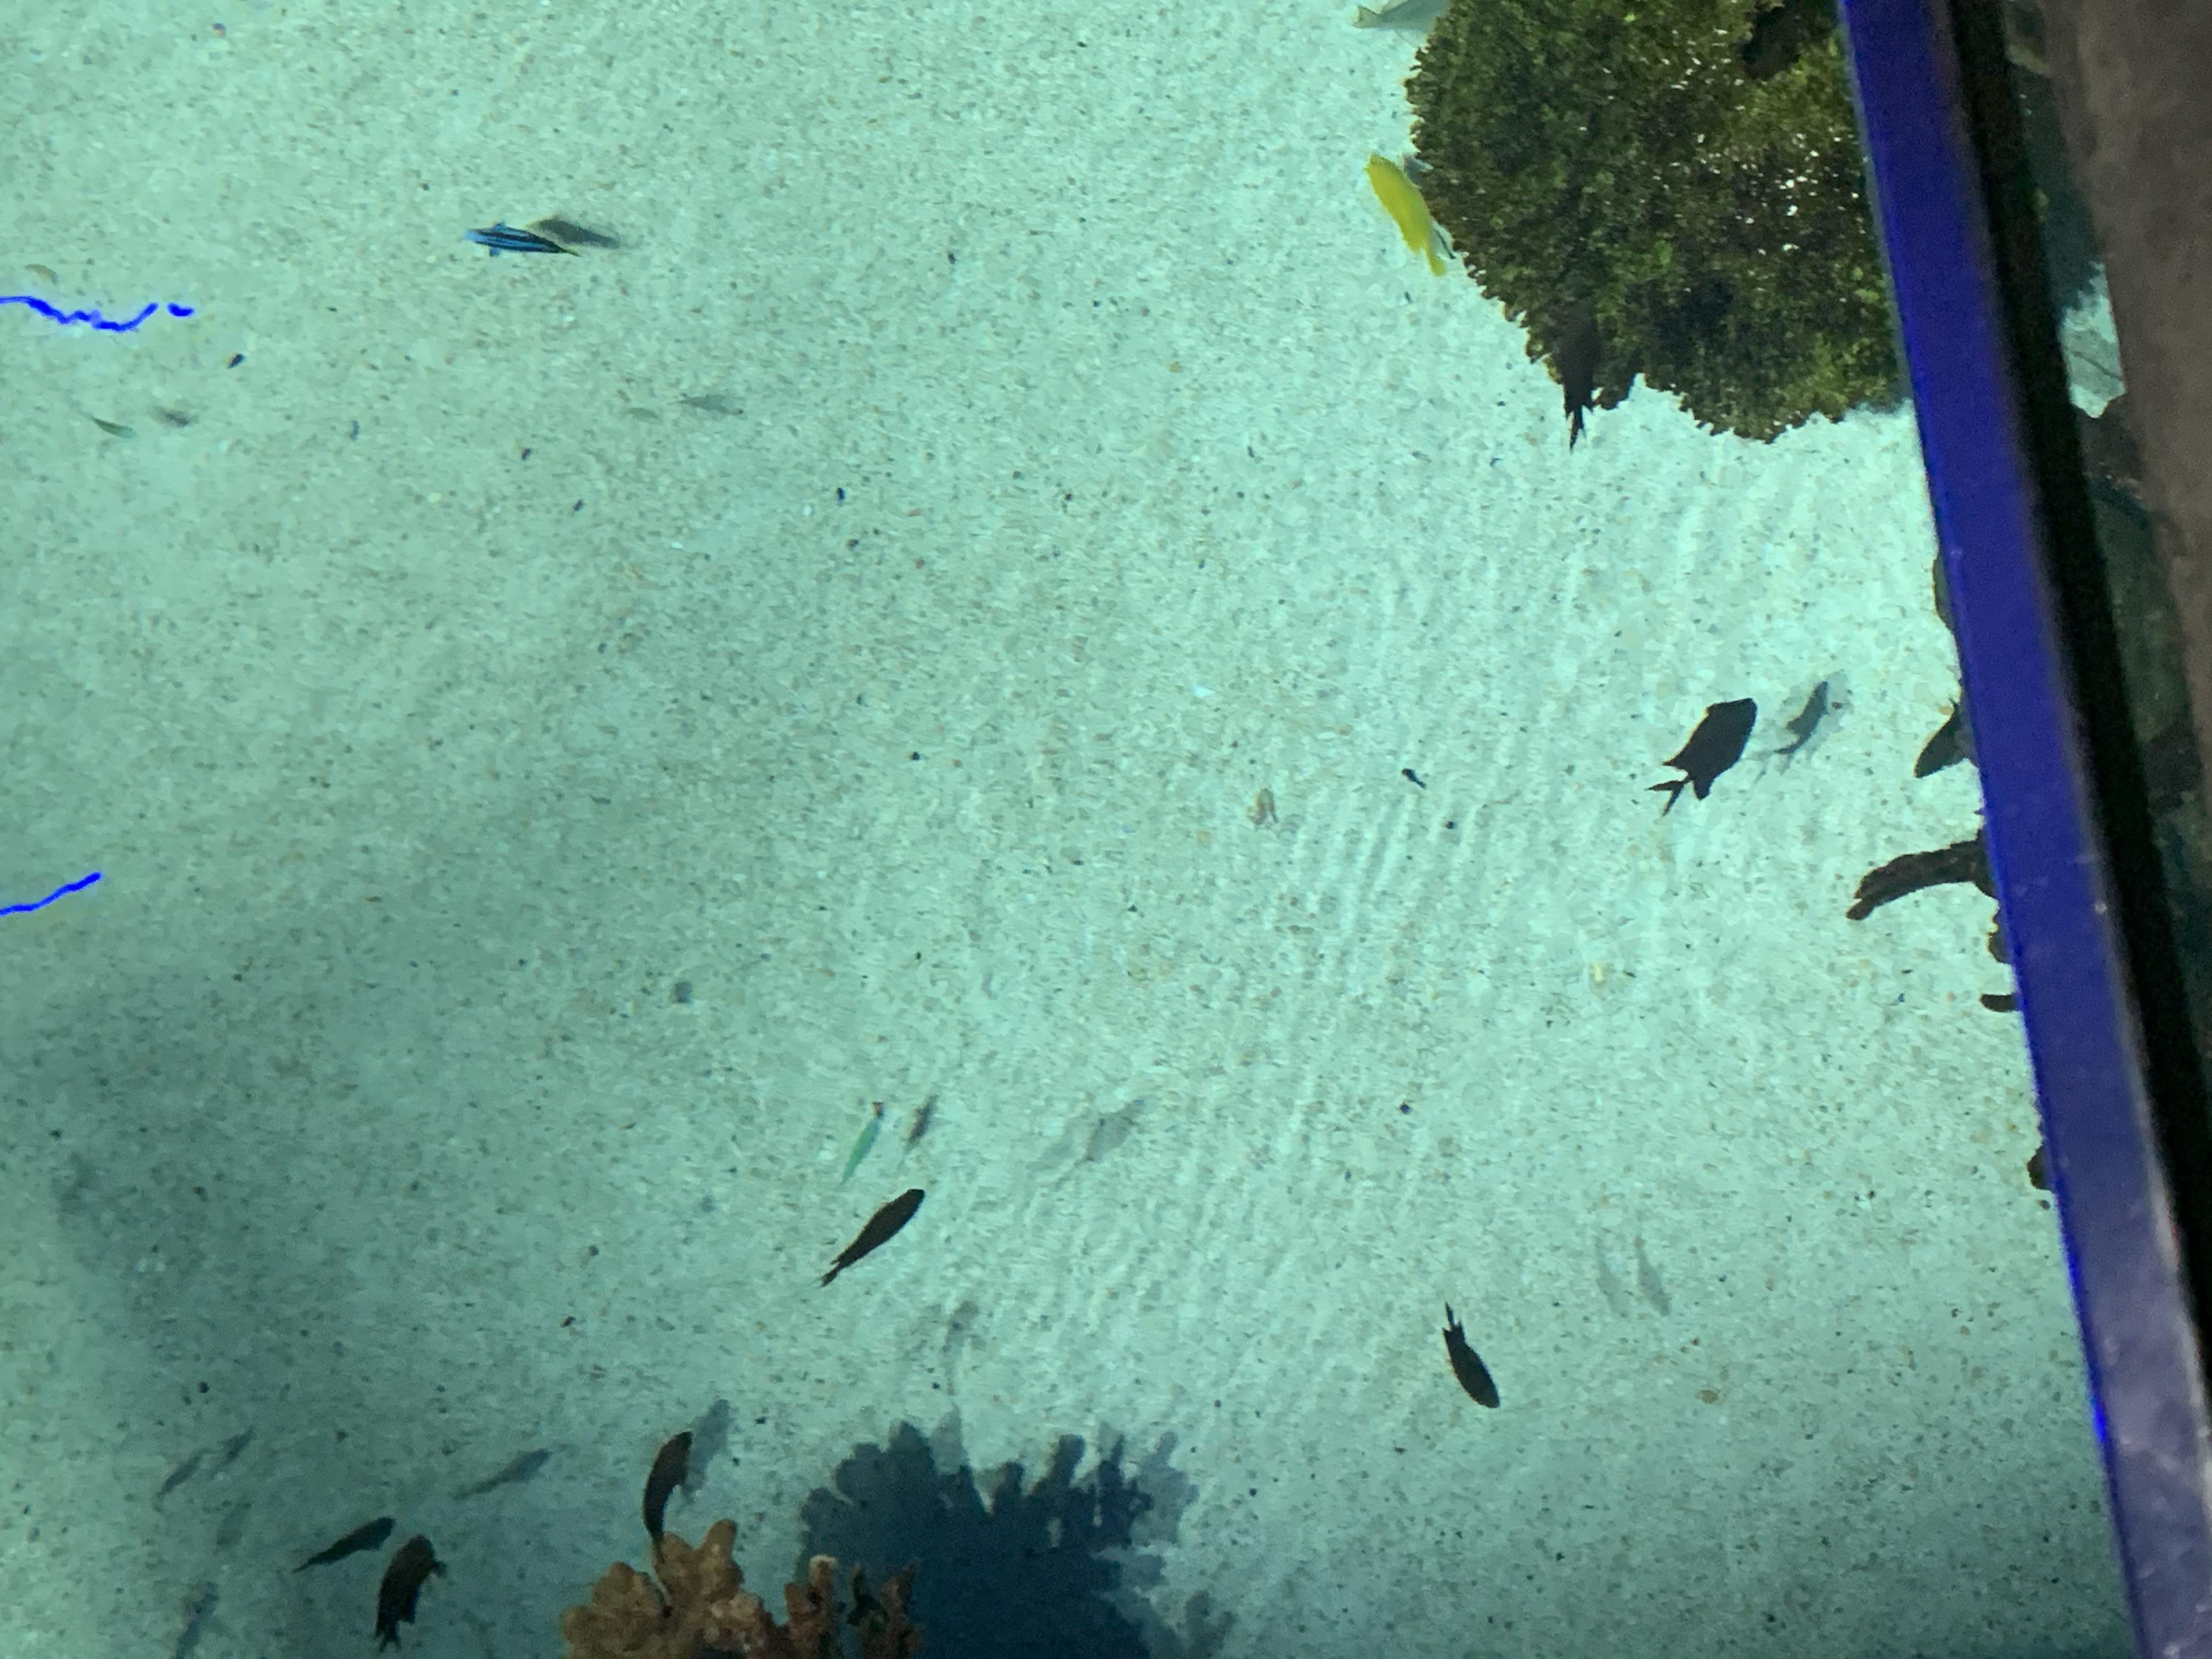fish: (1648, 687, 1757, 823), (815, 1185, 934, 1297), (369, 1532, 458, 1657), (1364, 152, 1451, 279), (632, 1419, 702, 1574), (1430, 1304, 1514, 1422), (296, 1500, 397, 1581), (469, 211, 577, 275), (836, 1108, 883, 1190)
